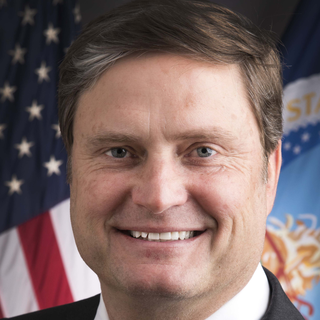eye: (180, 140, 228, 165), (95, 141, 144, 165)
